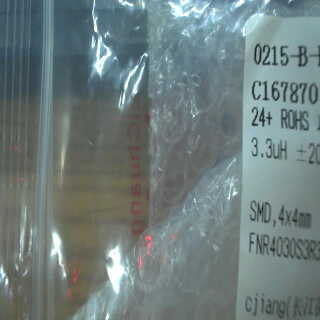3.3uH: (246, 133, 289, 169)
